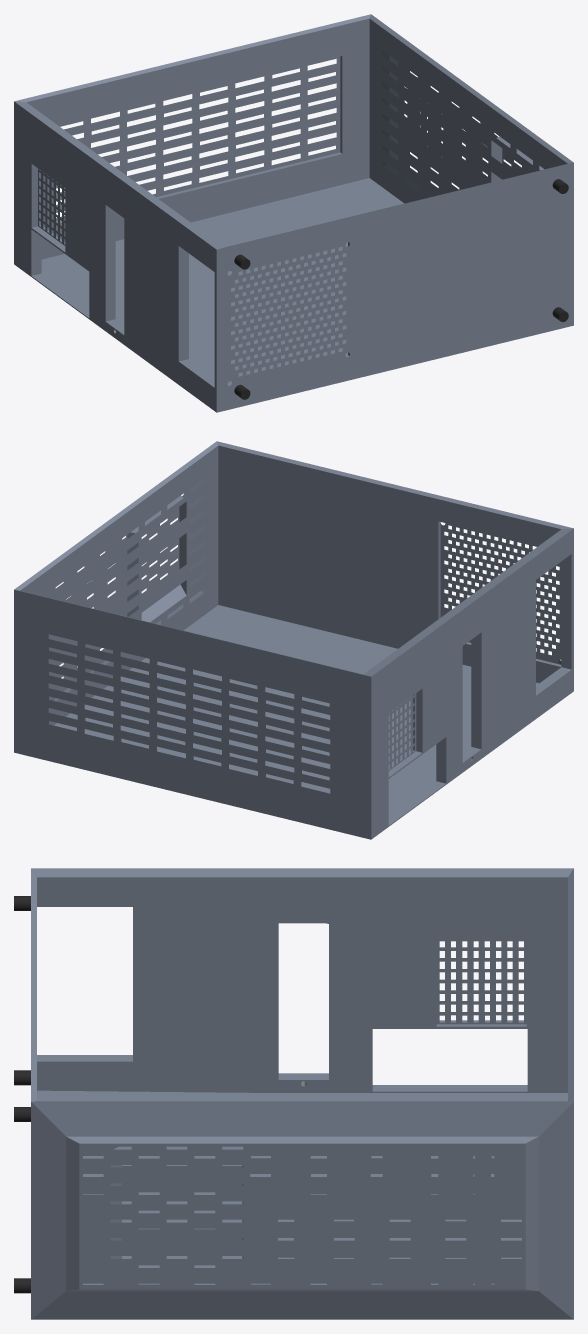
The model's file is Case.glb.
The picture shows the model from 3 angles, top to bottom: view 1: azimuth 30°, elevation 25°; view 2: azimuth 150°, elevation 25°; view 3: azimuth 270°, elevation 25°; orthographic projection. The views are drawn at different scales.
Visible parts, largest first — view 1: Case; view 2: Case; view 3: Case.
Boxes of the visible parts, left/top/right/bottom form: Case: left=14, top=14, right=573, bottom=412; Case: left=14, top=441, right=573, bottom=839; Case: left=14, top=868, right=573, bottom=1319.
Size of the model in its own units: 14.08 by 5.99 by 13.93.
